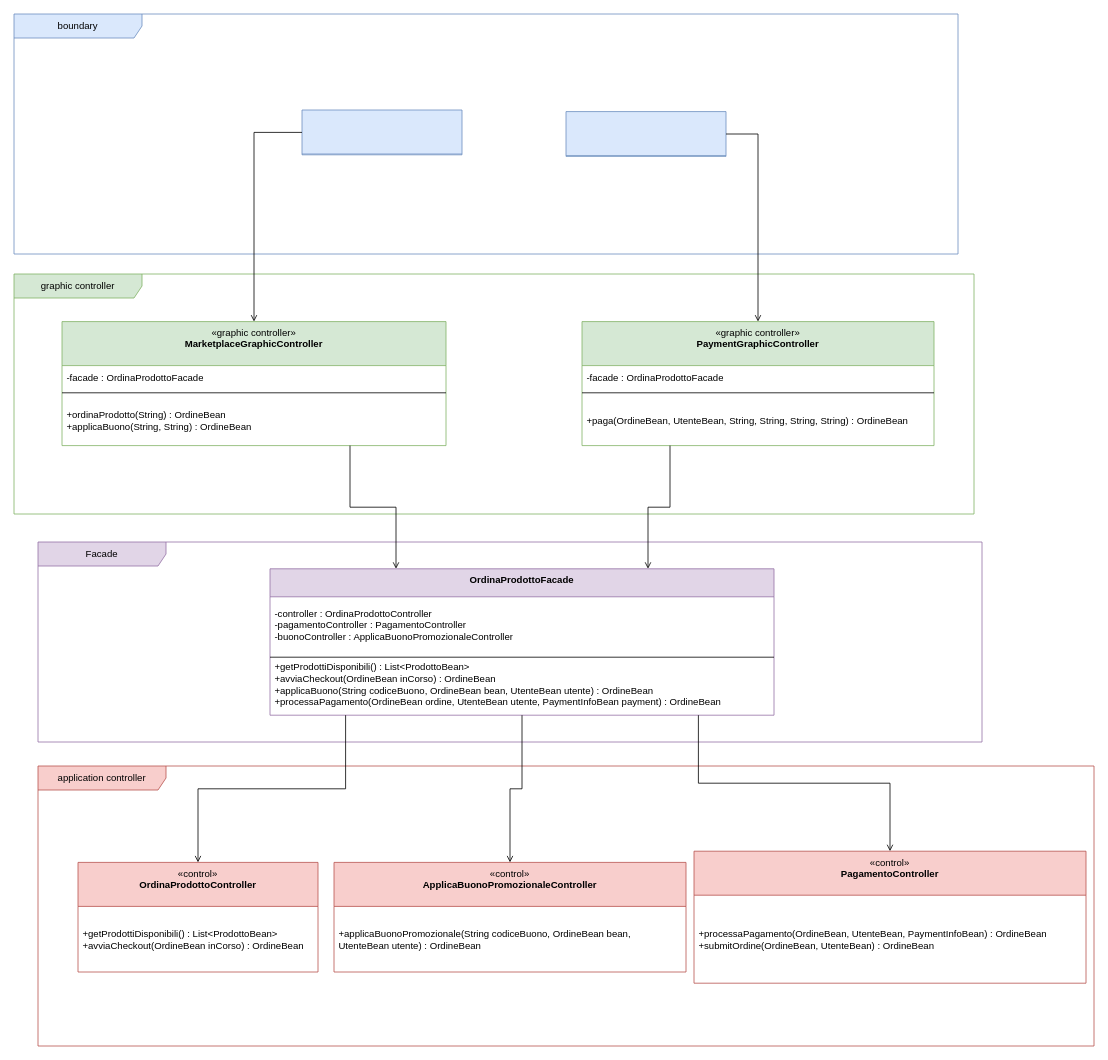
The diagram is 1108 pixels wide and 1060 high, and some of its shapes have lost their labels. Here are the shapes that lost their labels. From the top down, the centre of each, then its label:
At (x=381, y=132): "<<boundary>> MarketplaceView".
At (x=645, y=133): "<<boundary>> PaymentView".
